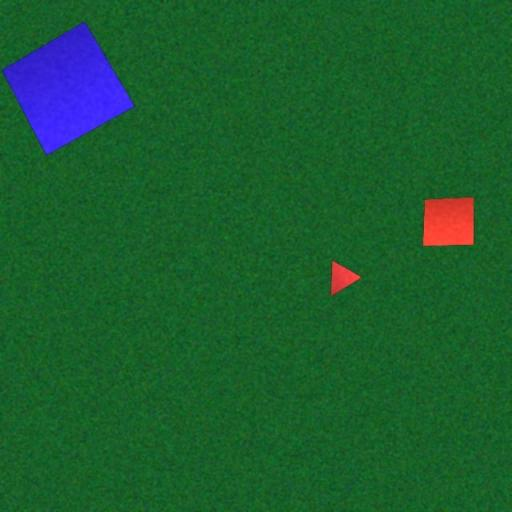BLUE_SQUARE: (1, 21, 135, 156)
RED_SQUARE: (422, 197, 474, 246)
